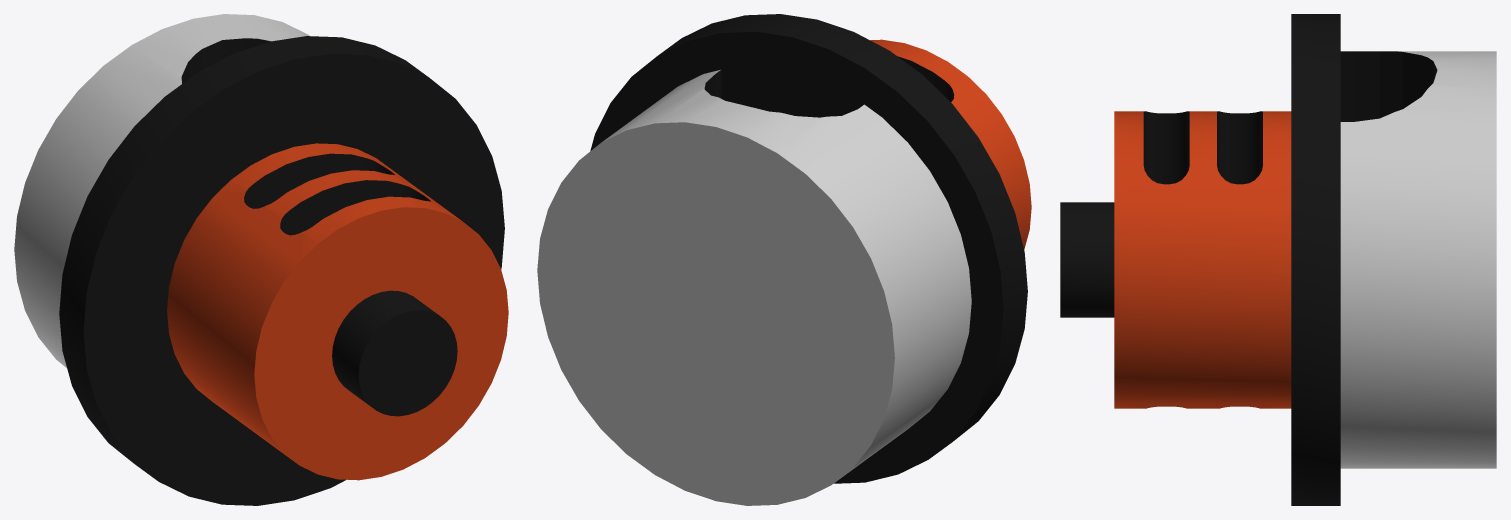
File: Handle.fbx
3 renders of one model, left to right at view 1: azimuth 30°, elevation 25°; view 2: azimuth 150°, elevation 25°; view 3: azimuth 270°, elevation 25°, orthographic.
Visible parts, largest first — view 1: Cylinder_1, Cylinder_2, Cylinder, Cylinder_2_2, Cube, Cube_3; view 2: Cylinder, Cylinder_1, Cylinder_2, Cube; view 3: Cylinder, Cylinder_2, Cylinder_1, Cylinder_2_2, Cube, Cube_3.
Boxes of the visible parts, x1=… form: Cylinder_1: x1=59, y1=36, x2=504, y2=505; Cylinder_2: x1=167, y1=143, x2=508, y2=480; Cylinder: x1=14, y1=14, x2=309, y2=367; Cylinder_2_2: x1=332, y1=290, x2=457, y2=416; Cube: x1=244, y1=153, x2=430, y2=235; Cube_3: x1=181, y1=38, x2=270, y2=83; Cylinder: x1=537, y1=70, x2=971, y2=505; Cylinder_1: x1=590, y1=14, x2=1027, y2=483; Cylinder_2: x1=870, y1=39, x2=1031, y2=249; Cube: x1=897, y1=56, x2=954, y2=101; Cylinder: x1=1340, y1=51, x2=1496, y2=468; Cylinder_2: x1=1114, y1=111, x2=1291, y2=408; Cylinder_1: x1=1291, y1=14, x2=1340, y2=505; Cylinder_2_2: x1=1060, y1=202, x2=1114, y2=317; Cube: x1=1143, y1=111, x2=1262, y2=184; Cube_3: x1=1340, y1=51, x2=1437, y2=121.
Size of the model in its own units: 19.79 by 19.79 by 17.49.
